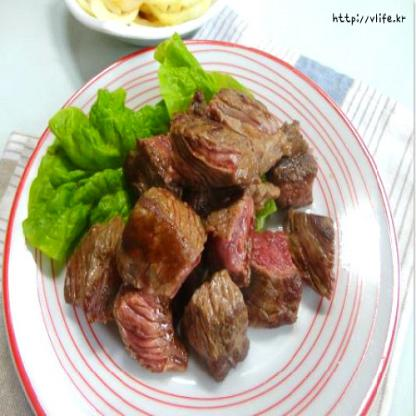Carne: (172, 88, 303, 180), (124, 182, 206, 301), (190, 274, 248, 382), (58, 216, 122, 306), (244, 219, 296, 323), (115, 294, 185, 370), (287, 210, 335, 296), (208, 193, 256, 270), (141, 125, 190, 188), (273, 137, 314, 208)
